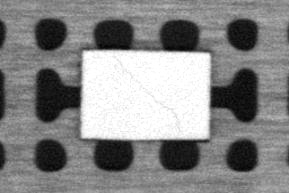DIE_CRACK: (114, 56, 181, 121)
